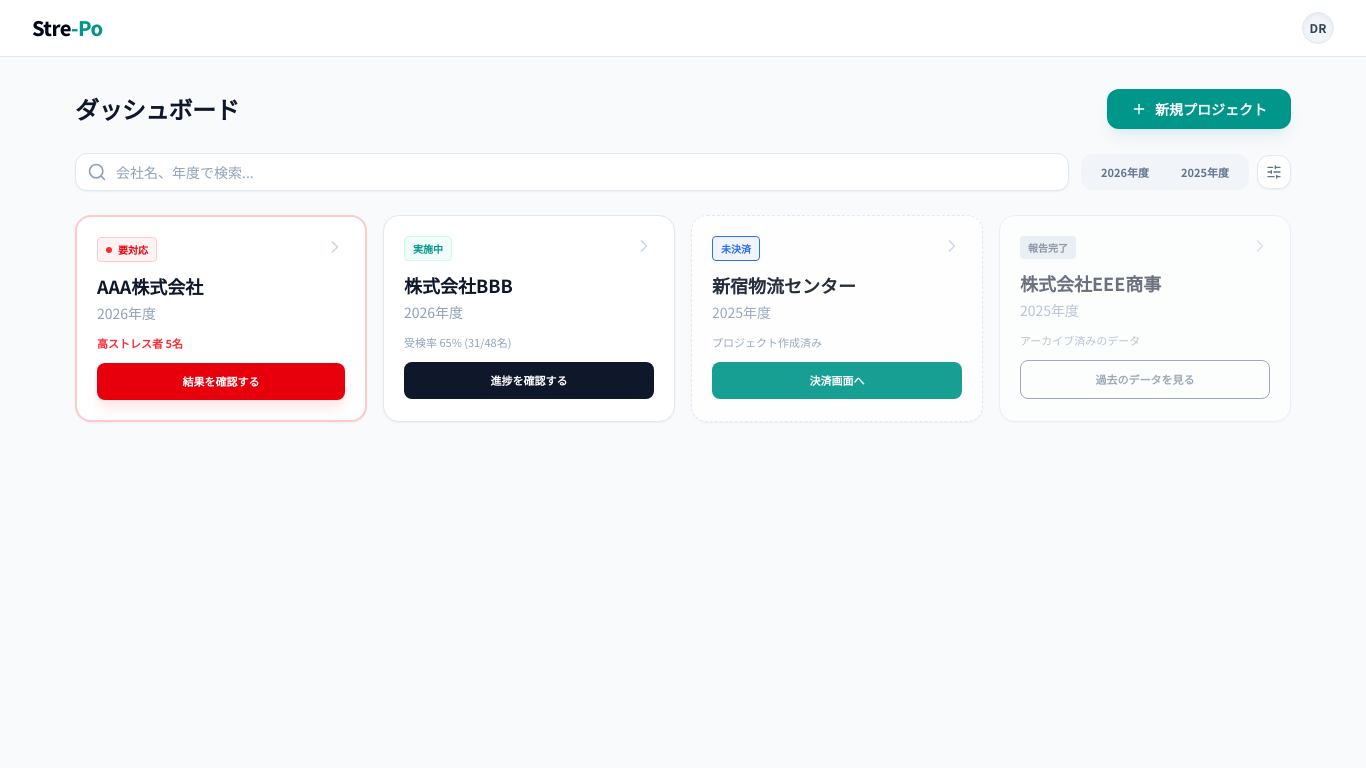
Test case: DoctorDashboard - コールバック › 新規プロジェクトボタンクリックでモーダルが開く
Click the button "新規プロジェクト": (1199, 109) [1107,89,1291,129]
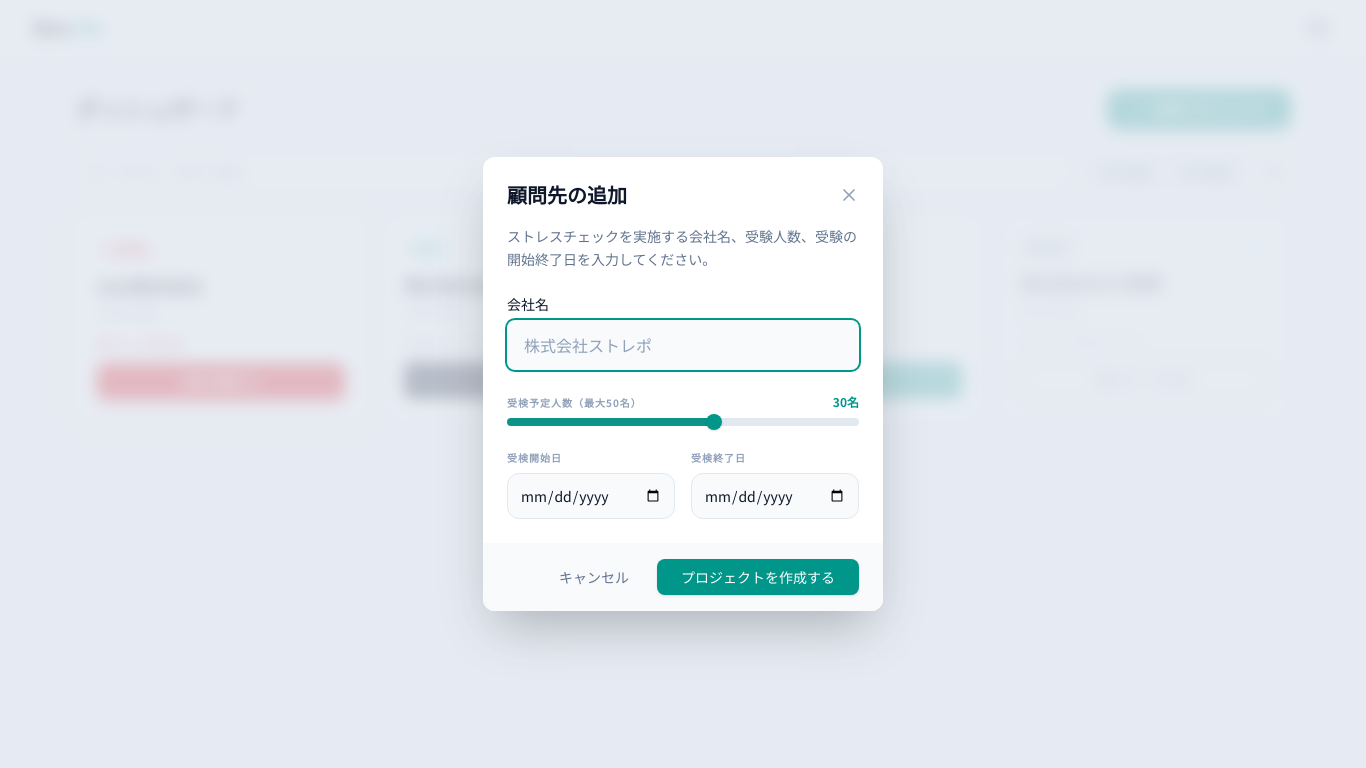
Now the dialog is shown, box [483,157,883,611]
Now the heading "顧問先の追加" is shown, box [507,181,627,209]
